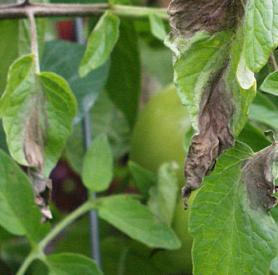Tomato leaf late blight: (165, 0, 278, 207), (167, 133, 278, 275), (0, 54, 91, 225)
